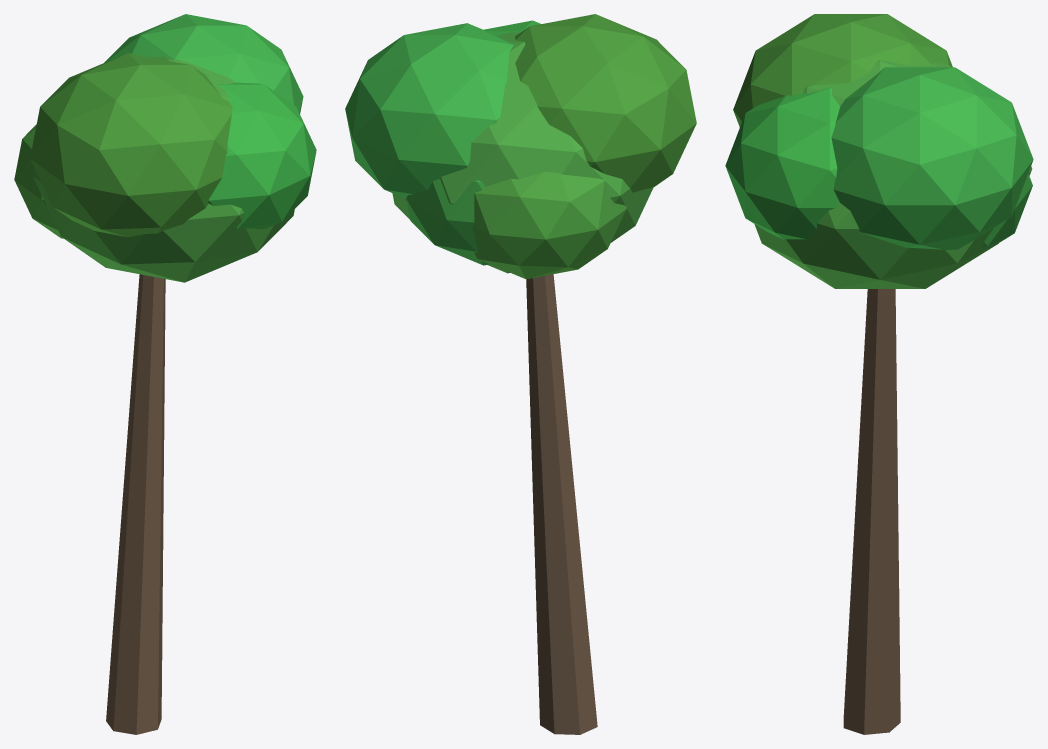
Rendered from tree_oak_2.glb.
The picture shows the model from 3 angles, left to right: view 1: azimuth 30°, elevation 25°; view 2: azimuth 150°, elevation 25°; view 3: azimuth 270°, elevation 25°; orthographic projection. The views are drawn at different scales.
Visible parts, largest first — view 1: Icosphere.002, Trunk, Icosphere.005, Icosphere, Icosphere.001, Icosphere.004; view 2: Icosphere.002, Icosphere.001, Trunk, Icosphere.004, Icosphere, Icosphere.003; view 3: Icosphere.001, Trunk, Icosphere.005, Icosphere.002, Icosphere, Icosphere.003.
Part boxes in pixels (left/top/right/bottom): Icosphere.002: left=30, top=53, right=232, bottom=237; Trunk: left=106, top=274, right=165, bottom=734; Icosphere.005: left=208, top=82, right=316, bottom=229; Icosphere: left=33, top=56, right=294, bottom=282; Icosphere.001: left=104, top=14, right=303, bottom=113; Icosphere.004: left=14, top=124, right=63, bottom=238; Icosphere.002: left=515, top=14, right=696, bottom=192; Icosphere.001: left=345, top=23, right=513, bottom=198; Trunk: left=526, top=274, right=597, bottom=734; Icosphere.004: left=472, top=171, right=626, bottom=279; Icosphere: left=392, top=32, right=653, bottom=273; Icosphere.003: left=406, top=179, right=489, bottom=265; Icosphere.001: left=831, top=67, right=1033, bottom=249; Trunk: left=843, top=289, right=900, bottom=734; Icosphere.005: left=725, top=87, right=840, bottom=239; Icosphere.002: left=733, top=14, right=952, bottom=127; Icosphere: left=754, top=60, right=999, bottom=288; Icosphere.003: left=982, top=174, right=1032, bottom=248.
Size of the model in its own units: 3.67 by 8.57 by 3.43.
